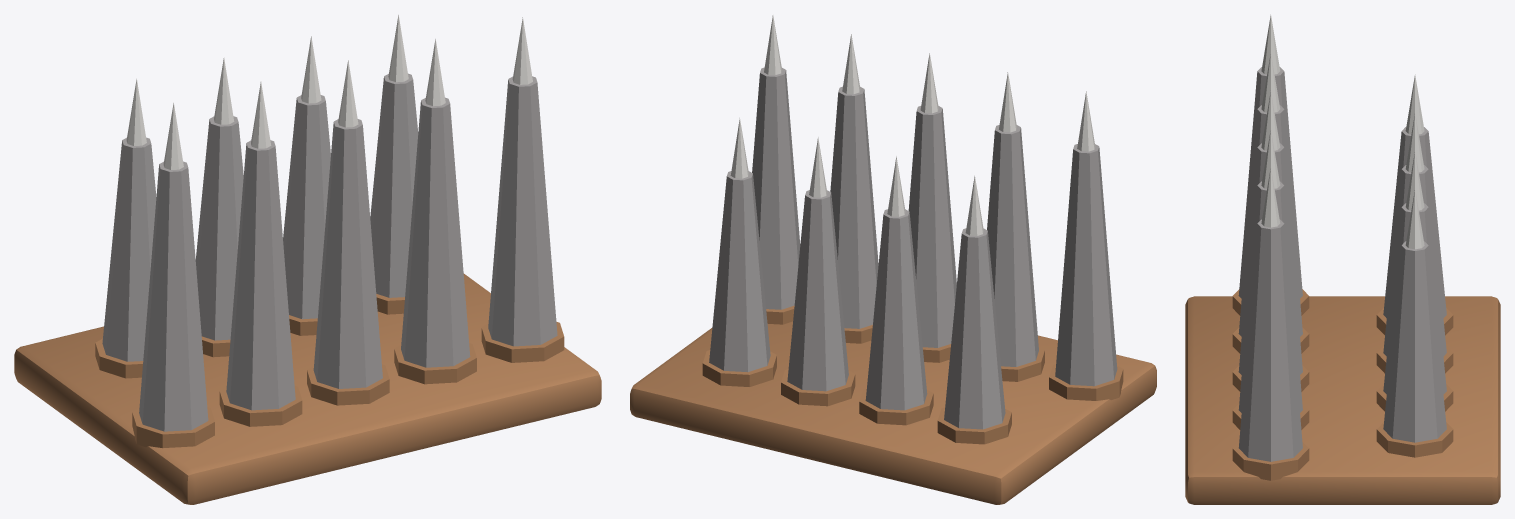
File: spikes.glb
3 renders of one model, left to right at view 1: azimuth 30°, elevation 25°; view 2: azimuth 150°, elevation 25°; view 3: azimuth 270°, elevation 25°, orthographic. The views are drawn at different scales.
Parts seen in each view (by area): view 1: spikes; view 2: spikes; view 3: spikes.
Part boxes in pixels (<box>): spikes: <box>14,15,601,504</box>; spikes: <box>630,15,1156,504</box>; spikes: <box>1185,14,1500,504</box>.
Size of the model in its own units: 0.97 by 0.8 by 0.7.
